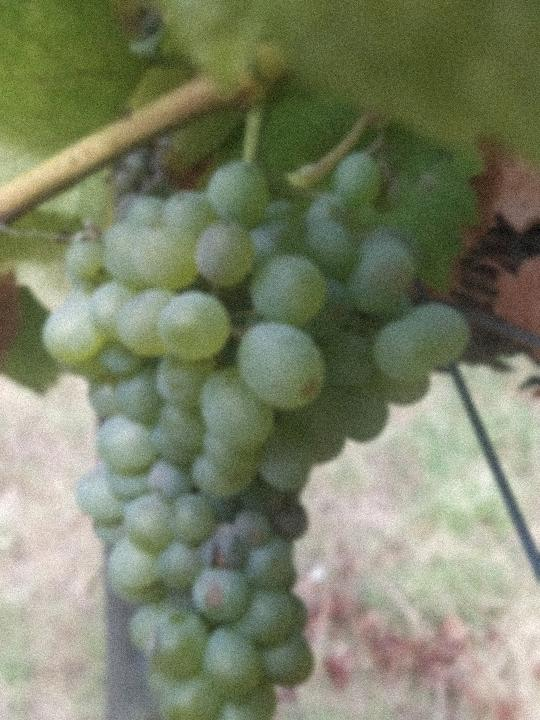grape: (42, 150, 472, 720)
